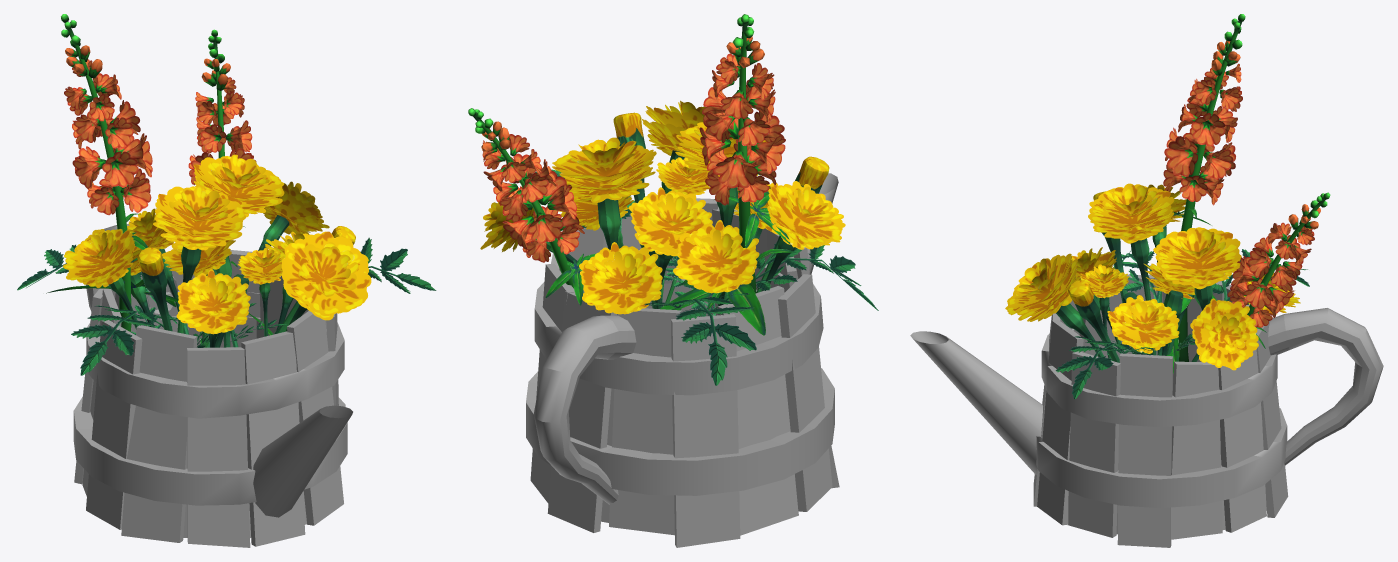
Rendered from wateringcan with flowers.fbx.
3 views of the same model, side by side, from view 1: azimuth 30°, elevation 25°; view 2: azimuth 150°, elevation 25°; view 3: azimuth 270°, elevation 25° (orthographic). The views are drawn at different scales.
Visible parts, largest first — view 1: woodenPail, SM_Pickup2_lvl3_Snapdragon/, one_marigold_flower5, one_marigold_flower3, one_marigold_flower7, SM_Pickup2_lvl3_Snapdragon0, one_marigold_flower4, one_marigold_flower1, one_marigold_flower9, polySurface7, SM_Pickup3_Lvl2_Marigold1, one_marigold_flower6 (+4 smaller); view 2: woodenPail, SM_Pickup2_lvl3_Snapdragon/, one_marigold_flower7, SM_Pickup2_lvl3_Snapdragon0, one_marigold_flower3, one_marigold_flower1, one_marigold_flower8, one_marigold_flower5, polySurface5, polySurface7, one_marigold_flower6, one_marigold_flower9 (+2 smaller); view 3: woodenPail, SM_Pickup2_lvl3_Snapdragon/, one_marigold_flower5, SM_Pickup2_lvl3_Snapdragon0, one_marigold_flower3, one_marigold_flower7, one_marigold_flower9, SM_Pickup3_Lvl2_Marigold2, polySurface6, one_marigold_flower6, one_marigold_flower4, one_marigold_flower8 (+3 smaller).
Part boxes in pixels (x1,y1,x2,y2): woodenPail: (73,224,352,547); SM_Pickup2_lvl3_Snapdragon/: (46,14,178,331); one_marigold_flower5: (265,231,371,333); one_marigold_flower3: (130,186,256,347); one_marigold_flower7: (127,154,284,347); SM_Pickup2_lvl3_Snapdragon0: (188,29,273,343); one_marigold_flower4: (176,269,250,347); one_marigold_flower1: (63,229,138,329); one_marigold_flower9: (205,181,329,347); polySurface7: (71,305,179,375); SM_Pickup3_Lvl2_Marigold1: (137,247,287,347); one_marigold_flower6: (237,247,285,336); woodenPail: (526,173,839,547); SM_Pickup2_lvl3_Snapdragon/: (660,14,796,335); one_marigold_flower7: (552,137,662,314); SM_Pickup2_lvl3_Snapdragon0: (468,108,595,305); one_marigold_flower3: (666,122,766,315); one_marigold_flower1: (761,181,845,291); one_marigold_flower8: (628,187,712,308); one_marigold_flower5: (558,100,706,300); polySurface5: (644,293,756,385); polySurface7: (707,242,878,315); one_marigold_flower6: (656,157,710,305); one_marigold_flower9: (480,187,577,263); woodenPail: (910,274,1383,547); SM_Pickup2_lvl3_Snapdragon/: (1150,14,1245,373); one_marigold_flower5: (1005,253,1179,357); SM_Pickup2_lvl3_Snapdragon0: (1227,192,1330,348); one_marigold_flower3: (1088,183,1236,355); one_marigold_flower7: (1153,227,1300,314); one_marigold_flower9: (1190,298,1258,370); SM_Pickup3_Lvl2_Marigold2: (1068,280,1193,362); polySurface6: (1055,336,1155,399); one_marigold_flower6: (1080,264,1129,360); one_marigold_flower4: (1071,247,1123,350); one_marigold_flower8: (1143,263,1195,355).
Bounding box in the file's own units: 47.79 × 63.62 × 62.44.
